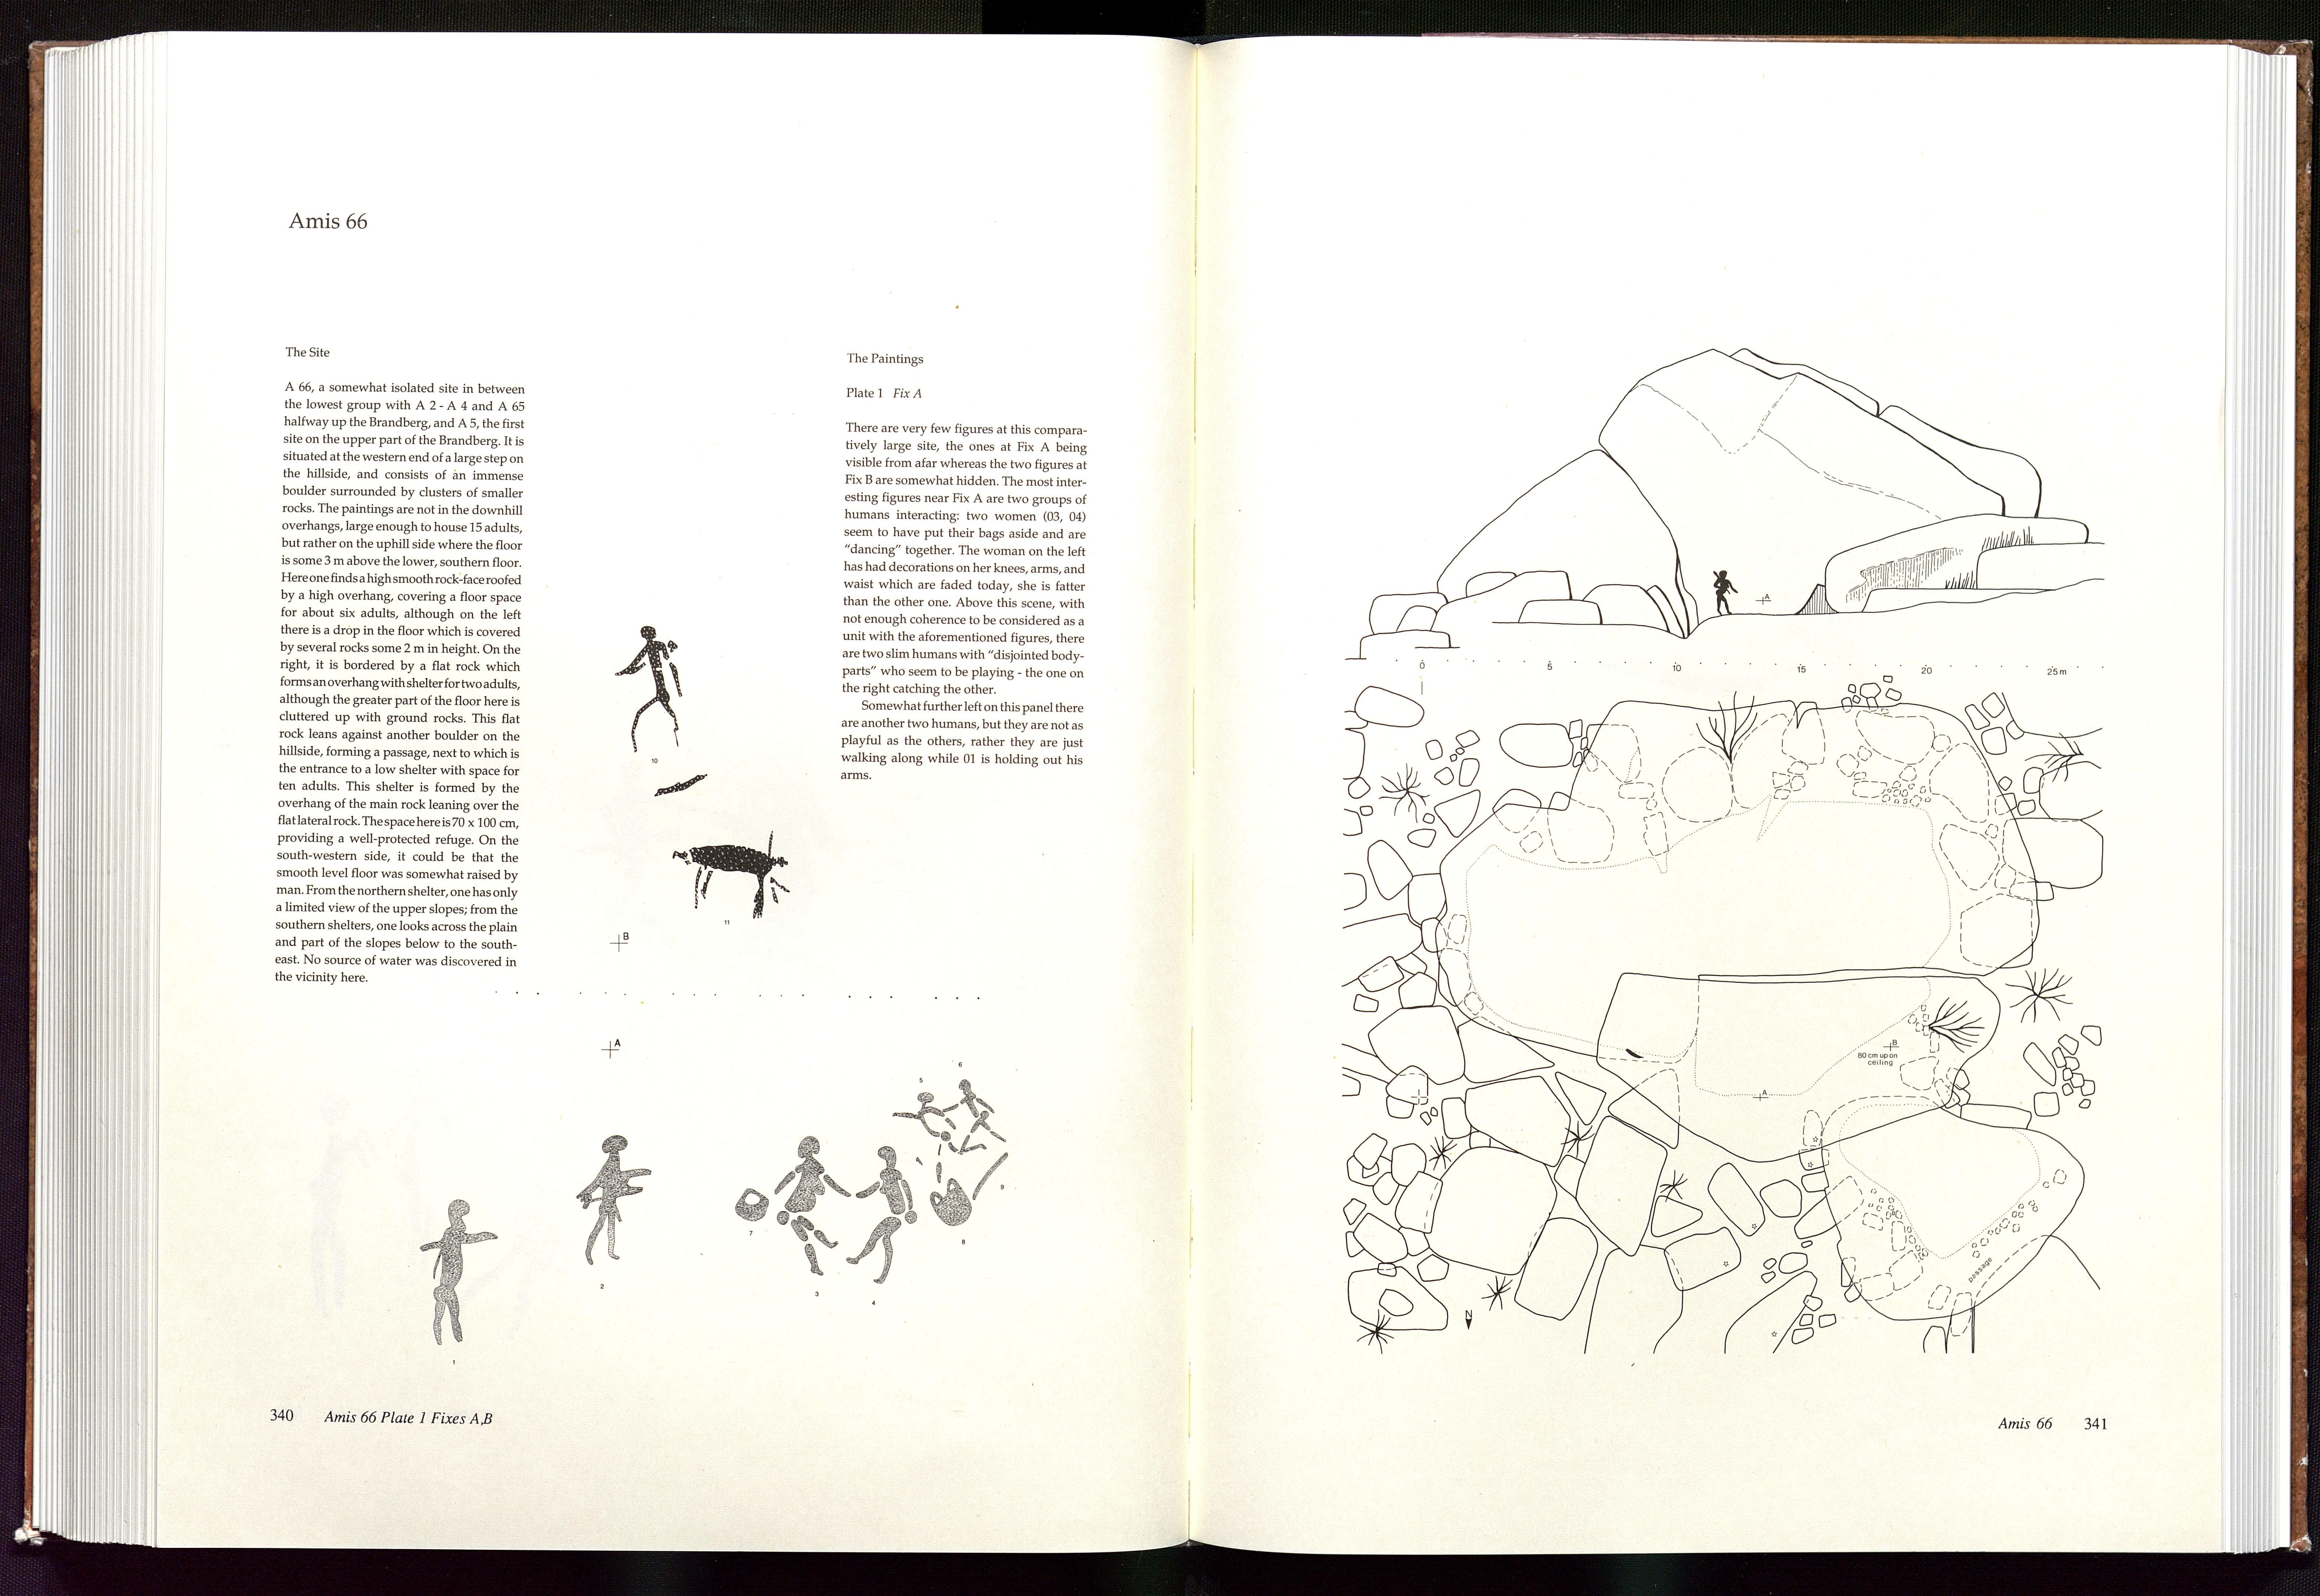animal: (659, 820, 794, 925)
human: (418, 1195, 501, 1353), (572, 1129, 652, 1272), (773, 1133, 852, 1279), (613, 618, 693, 758), (845, 1144, 917, 1287), (889, 1083, 966, 1183), (942, 1077, 1009, 1156)
